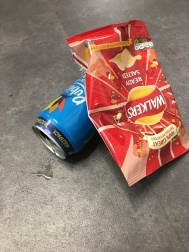can_blue: (23, 57, 119, 167)
